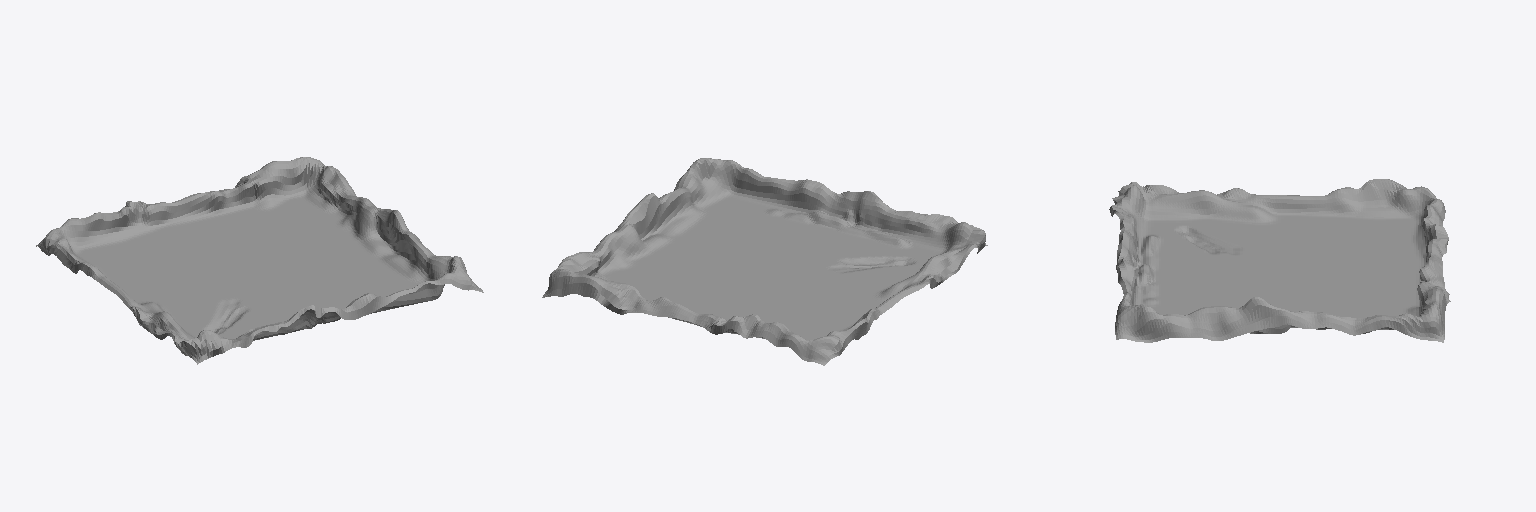
Rendered from terrain_test1.obj.
The picture shows the model from 3 angles: view 1: azimuth 30°, elevation 25°; view 2: azimuth 150°, elevation 25°; view 3: azimuth 270°, elevation 25°; orthographic projection.
Visible parts, largest first — view 1: Plane_Plane.002; view 2: Plane_Plane.002; view 3: Plane_Plane.002.
Boxes of the visible parts, <box> form: Plane_Plane.002: <box>36,157,483,364</box>; Plane_Plane.002: <box>542,158,987,365</box>; Plane_Plane.002: <box>1109,179,1450,342</box>.
Size of the model in its own units: 16.24 by 2.33 by 16.33.